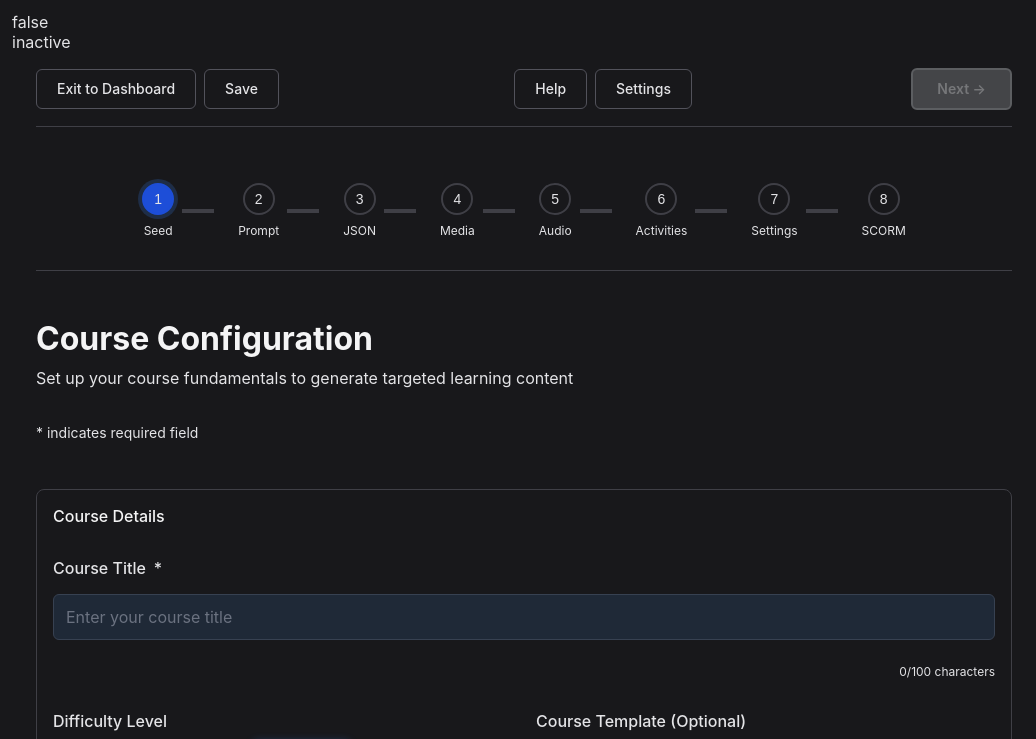
it: UnsavedChanges Navigation Integration Tests › Browser Navigation Warnings › should activate beforeunload listener when changes are made
Expected: the text with test id "has-unsaved-changes" reads "false", [12,12,48,32]
Expected: the text with test id "beforeunload-listener-active" reads "inactive", [12,32,71,52]
# Make changes to trigger dirty state
Type "Modified Course Title" into the field labelled "Course Title *" at (524, 617), box [53,594,995,640]
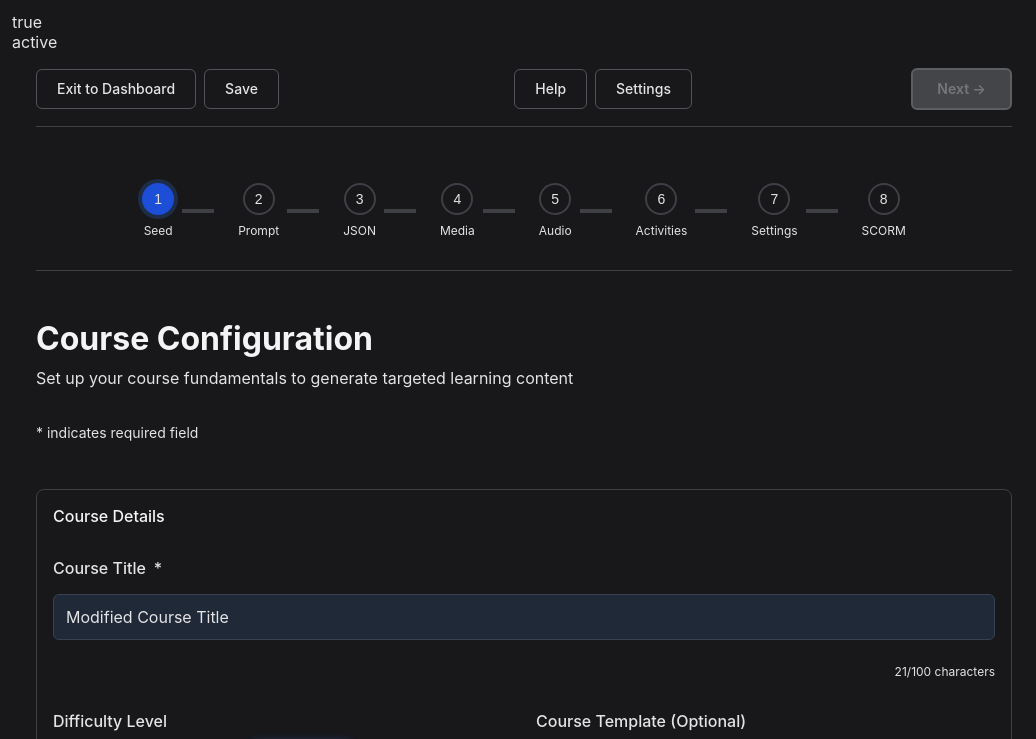
Now the text with test id "has-unsaved-changes" reads "true", box [12,12,42,32]
Now the text with test id "beforeunload-listener-active" reads "active", box [12,32,57,52]
